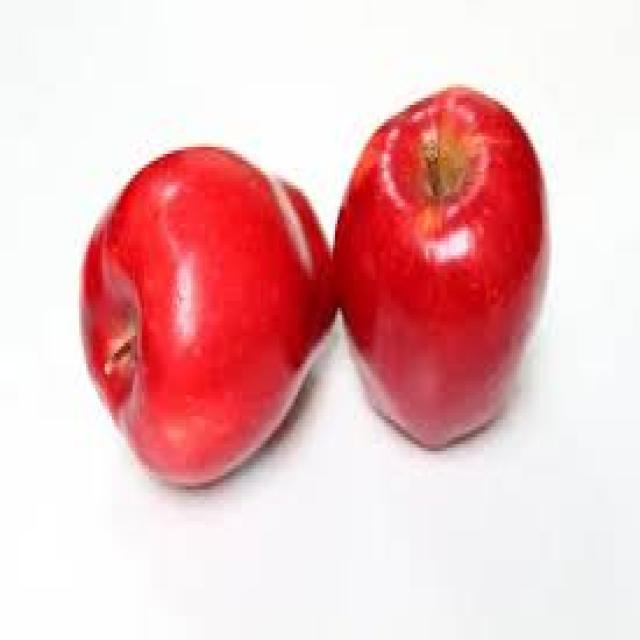Apple: (79, 144, 332, 483), (336, 80, 543, 452)
